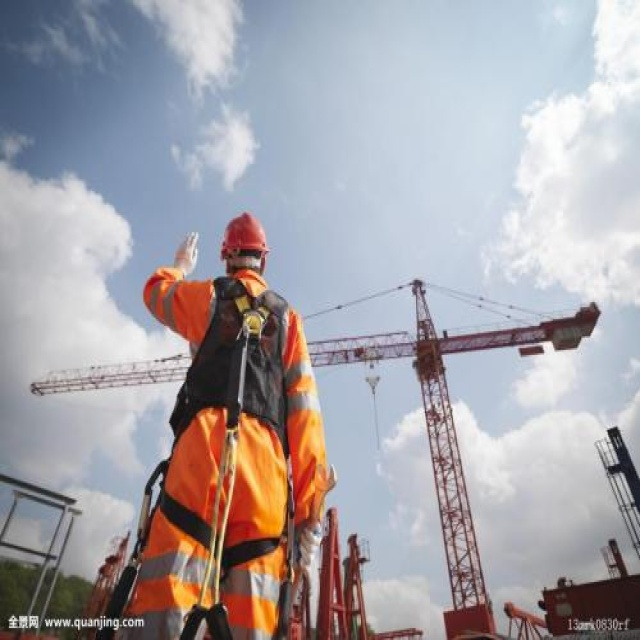Helmet: (212, 203, 277, 290)
Reflective vest: (145, 265, 319, 632)
